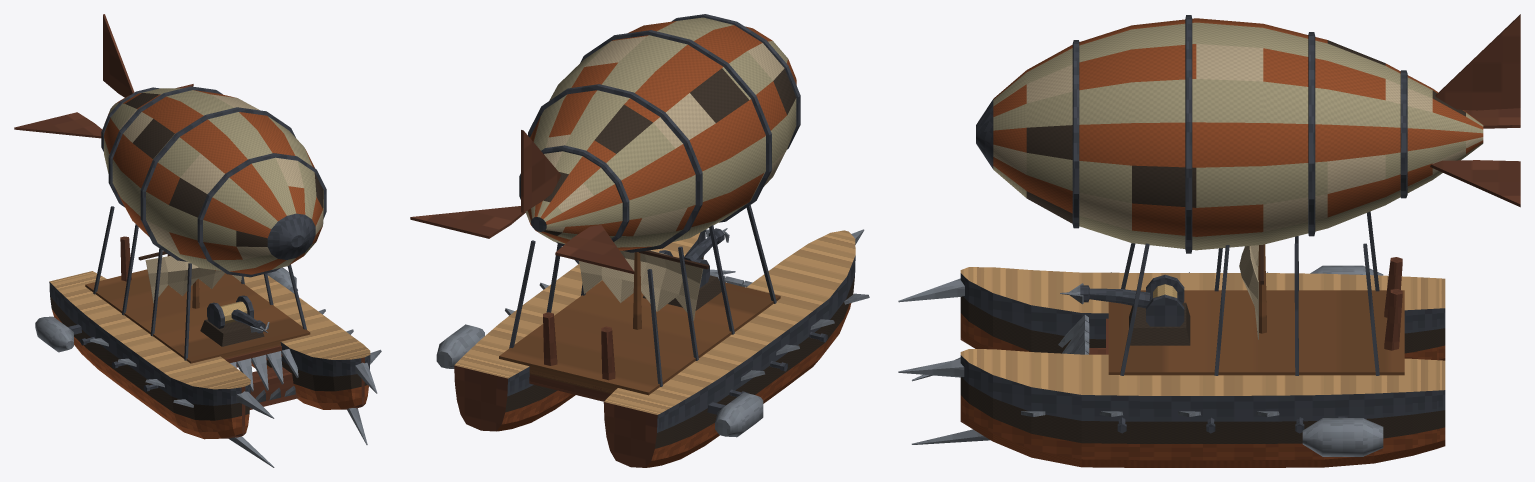
File: SM_Ship_IronMaw_HQ.glb
3 views of the same model, side by side, from view 1: azimuth 30°, elevation 25°; view 2: azimuth 150°, elevation 25°; view 3: azimuth 270°, elevation 25° (orthographic). The views are drawn at different scales.
Parts seen in each view (by area): view 1: SM_Ship_IronMaw_HQ; view 2: SM_Ship_IronMaw_HQ; view 3: SM_Ship_IronMaw_HQ.
Boxes of the visible parts, box(x1,y1,x2,y2) form: SM_Ship_IronMaw_HQ: box(14, 14, 381, 467); SM_Ship_IronMaw_HQ: box(410, 14, 869, 467); SM_Ship_IronMaw_HQ: box(898, 14, 1520, 467).
Bounding box in the file's own units: 14.73 × 16.6 × 23.11.
Materials: 1 (1 with a texture image).
